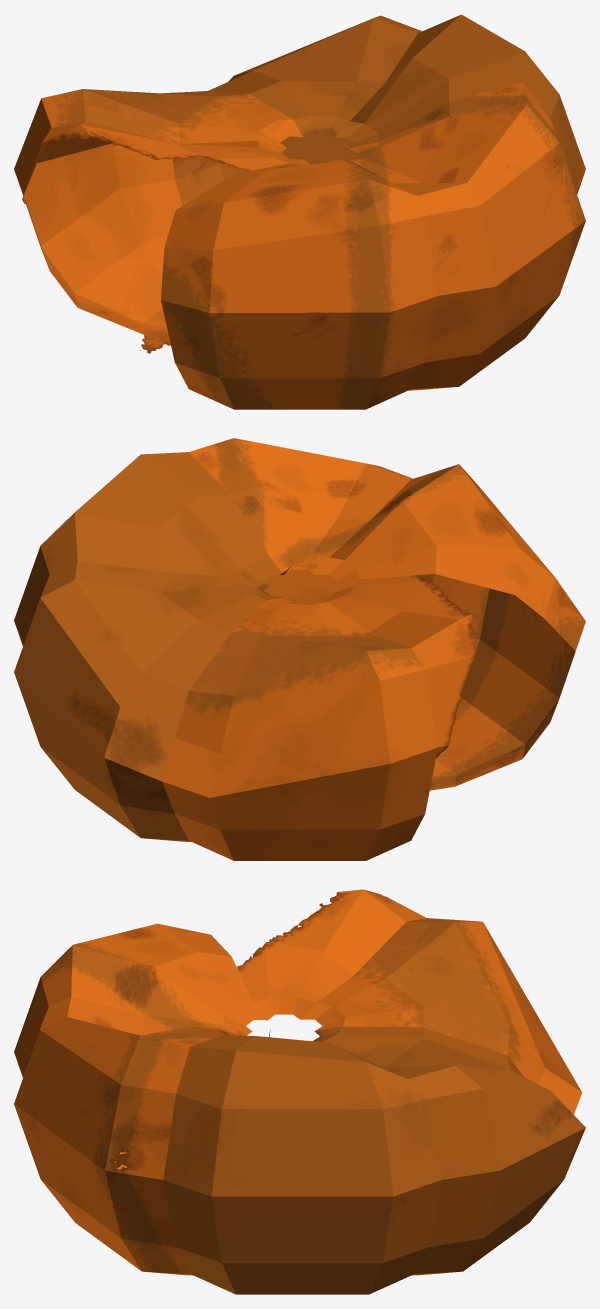
The model's file is Pumpkin010.fbx.
3 renders of one model, top to bottom at view 1: azimuth 30°, elevation 25°; view 2: azimuth 150°, elevation 25°; view 3: azimuth 270°, elevation 25°, orthographic.
Visible parts, largest first — view 1: Pumpkin010; view 2: Pumpkin010; view 3: Pumpkin010.
Part boxes in pixels (x1,y1,x2,y2): Pumpkin010: [14, 14, 585, 409]; Pumpkin010: [14, 438, 585, 860]; Pumpkin010: [14, 889, 585, 1294].
Size of the model in its own units: 31.23 by 18.02 by 31.82.
